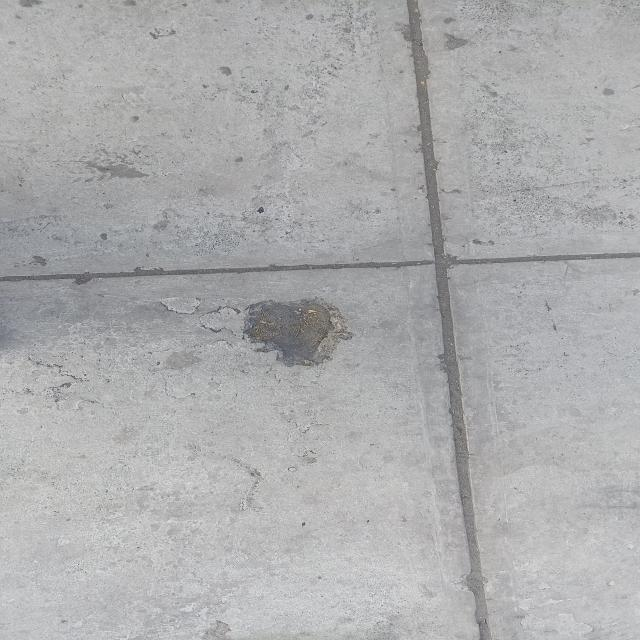hole: (236, 298, 349, 376)
